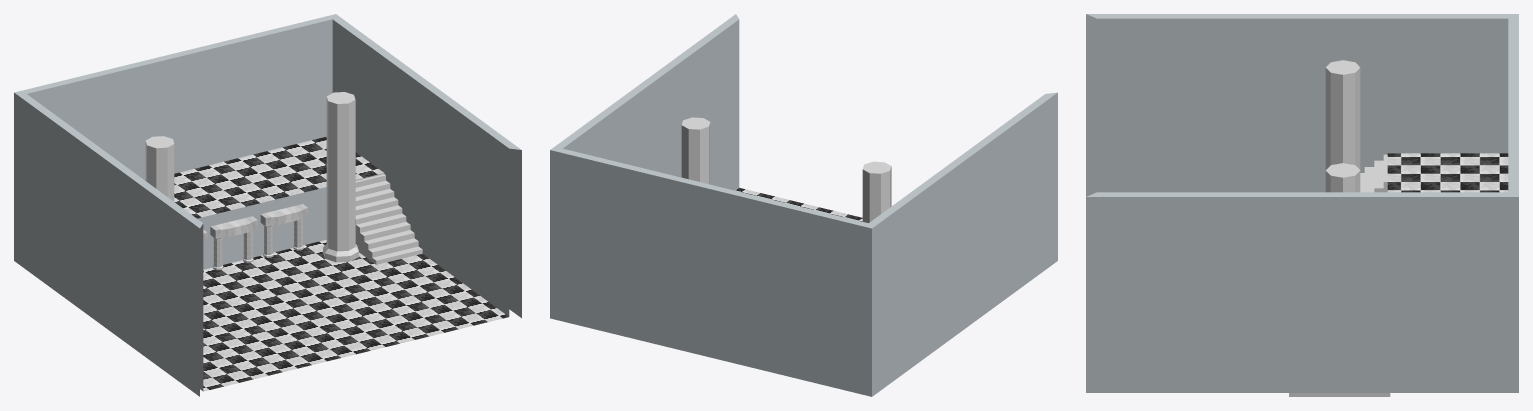
File: hub.glb
3 views of the same model, side by side, from view 1: azimuth 30°, elevation 25°; view 2: azimuth 150°, elevation 25°; view 3: azimuth 270°, elevation 25° (orthographic). The views are drawn at different scales.
Parts seen in each view (by area): view 1: door.001; view 2: door.001; view 3: door.001.
Boxes of the visible parts, left/top/right/bottom form: door.001: left=14, top=14, right=521, bottom=396; door.001: left=550, top=14, right=1057, bottom=396; door.001: left=1086, top=14, right=1518, bottom=396.
Size of the model in its own units: 32 by 16.5 by 32.
Materials: 5 (4 with a texture image).
